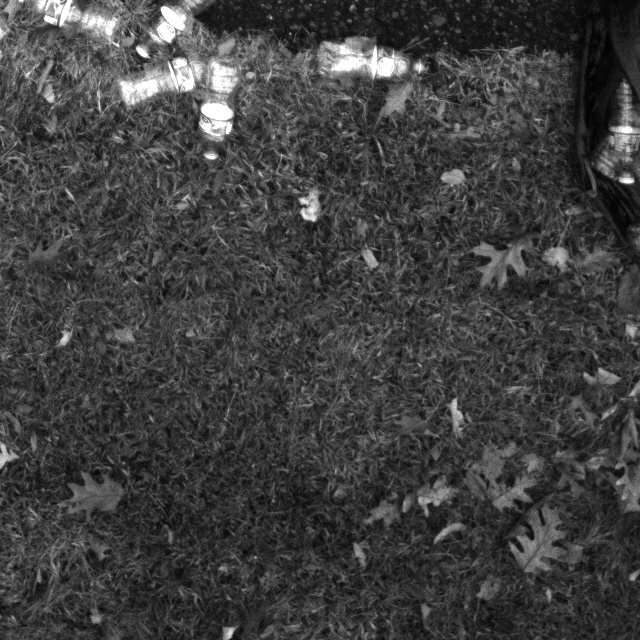bottle: (185, 57, 251, 169), (299, 43, 437, 95), (111, 52, 210, 112), (15, 0, 125, 53), (134, 0, 215, 62)
